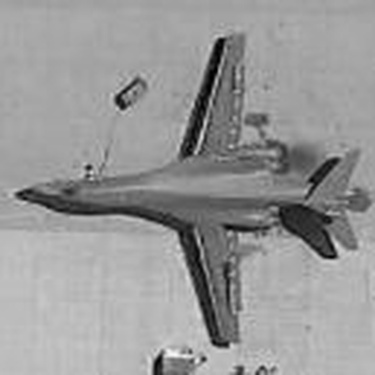airplane: (8, 25, 367, 360)
